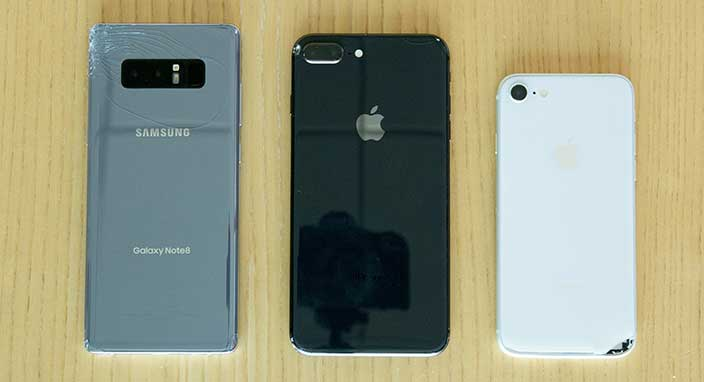apple: (343, 98, 419, 174)
